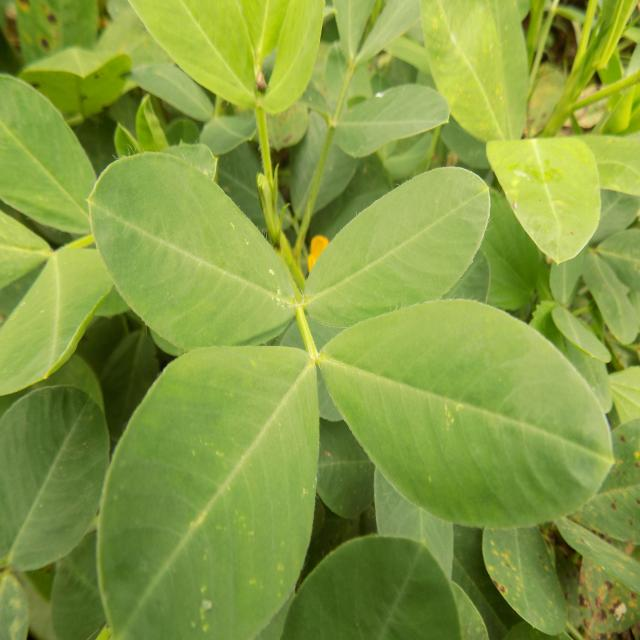Ground nut_healthy: (320, 305, 618, 516), (89, 150, 294, 362), (303, 168, 486, 330)
